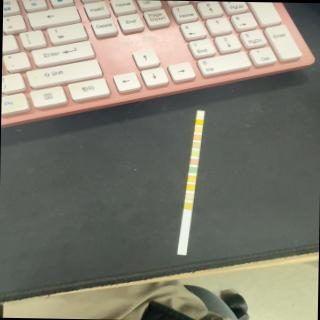mark: (187, 174, 196, 182), (184, 192, 193, 200), (183, 202, 192, 209), (195, 118, 203, 125), (186, 183, 194, 190), (194, 126, 202, 132), (193, 134, 201, 140), (192, 142, 200, 148), (191, 150, 199, 156), (190, 158, 198, 164), (189, 166, 197, 172), (197, 112, 204, 116)
